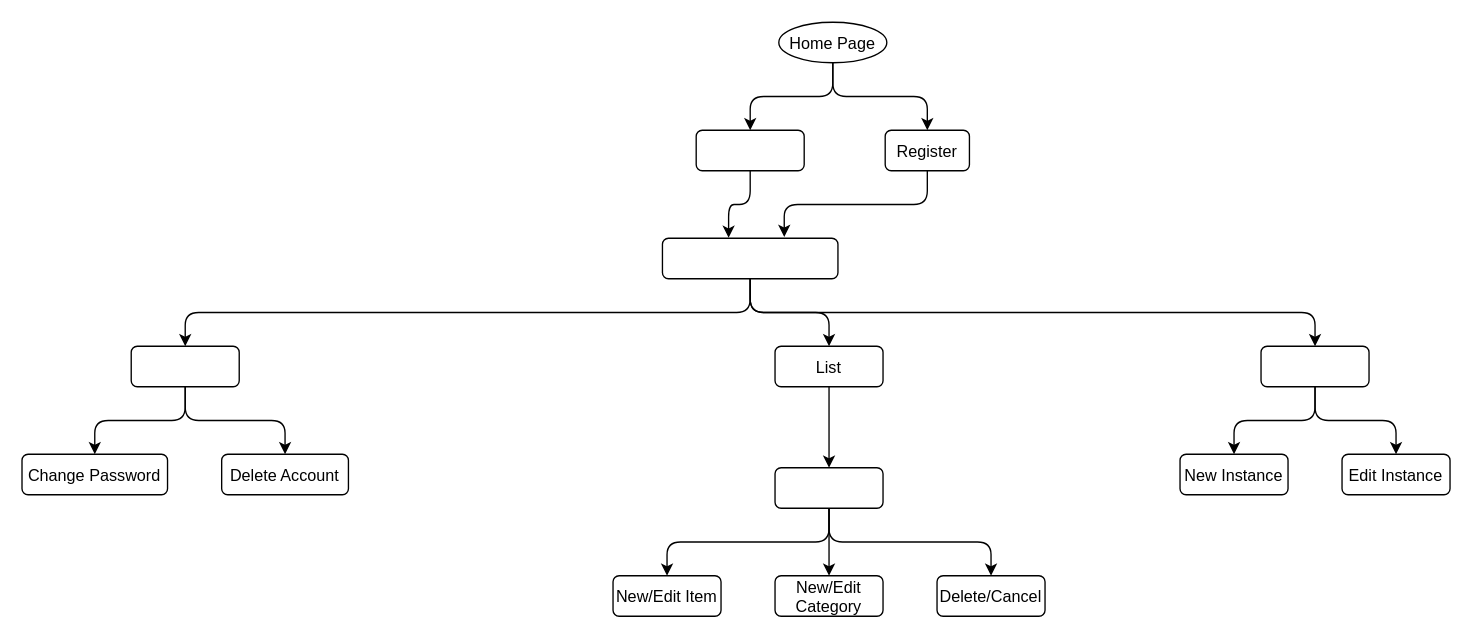
Image size: 1473x639. Some labels were removed from this diagram. The shapes that lost their labels are listed below. From the top down, each one's centre as x and y in pixels, then its label:
At point (749, 150): "Login".
At point (749, 258): "List and Instance View".
At point (184, 366): "User Settings".
At point (1314, 366): "Instance".
At point (828, 487): "New/Edit List".
